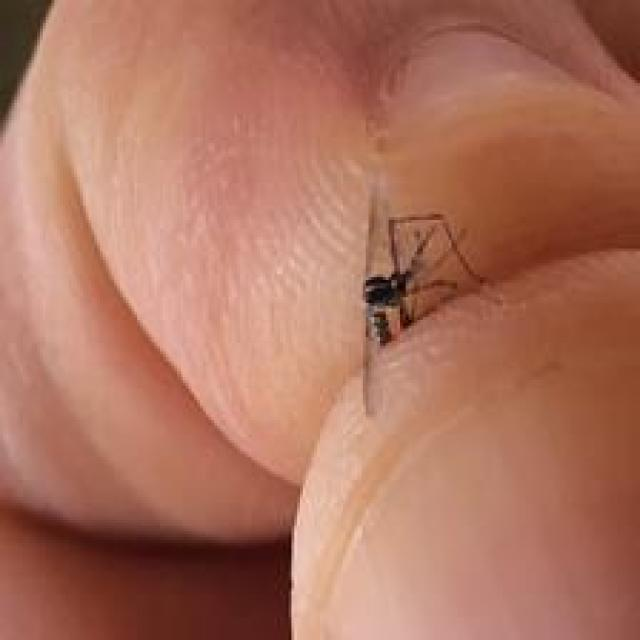Aedes albopictus: (361, 210, 490, 350)
